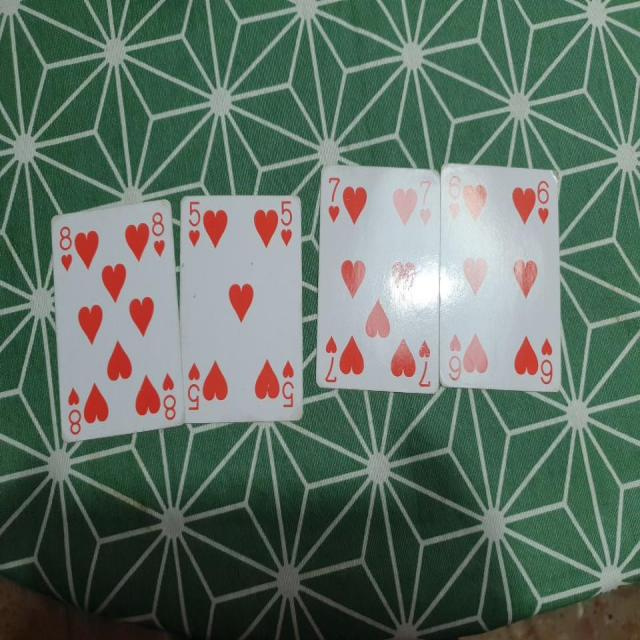5 Hearts: (178, 188, 308, 442)
6 Hearts: (435, 157, 564, 399)
7 Hearts: (312, 162, 443, 404)
8 Hearts: (46, 191, 187, 437)
